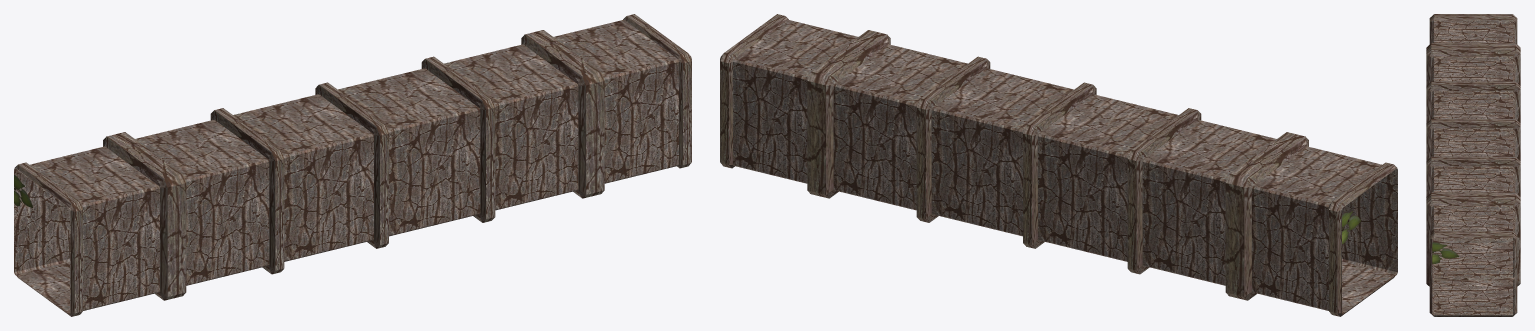
File: vent_long.FBX
The picture shows the model from 3 angles, left to right: view 1: azimuth 30°, elevation 25°; view 2: azimuth 150°, elevation 25°; view 3: azimuth 270°, elevation 25°; orthographic projection. The views are drawn at different scales.
Visible parts, largest first — view 1: vent_long; view 2: vent_long; view 3: vent_long.
Boxes of the visible parts, x1=… form: vent_long: x1=14, y1=14, x2=691, y2=316; vent_long: x1=720, y1=14, x2=1397, y2=316; vent_long: x1=1426, y1=14, x2=1520, y2=316.
Size of the model in its own units: 6.31 by 1.14 by 1.18.
